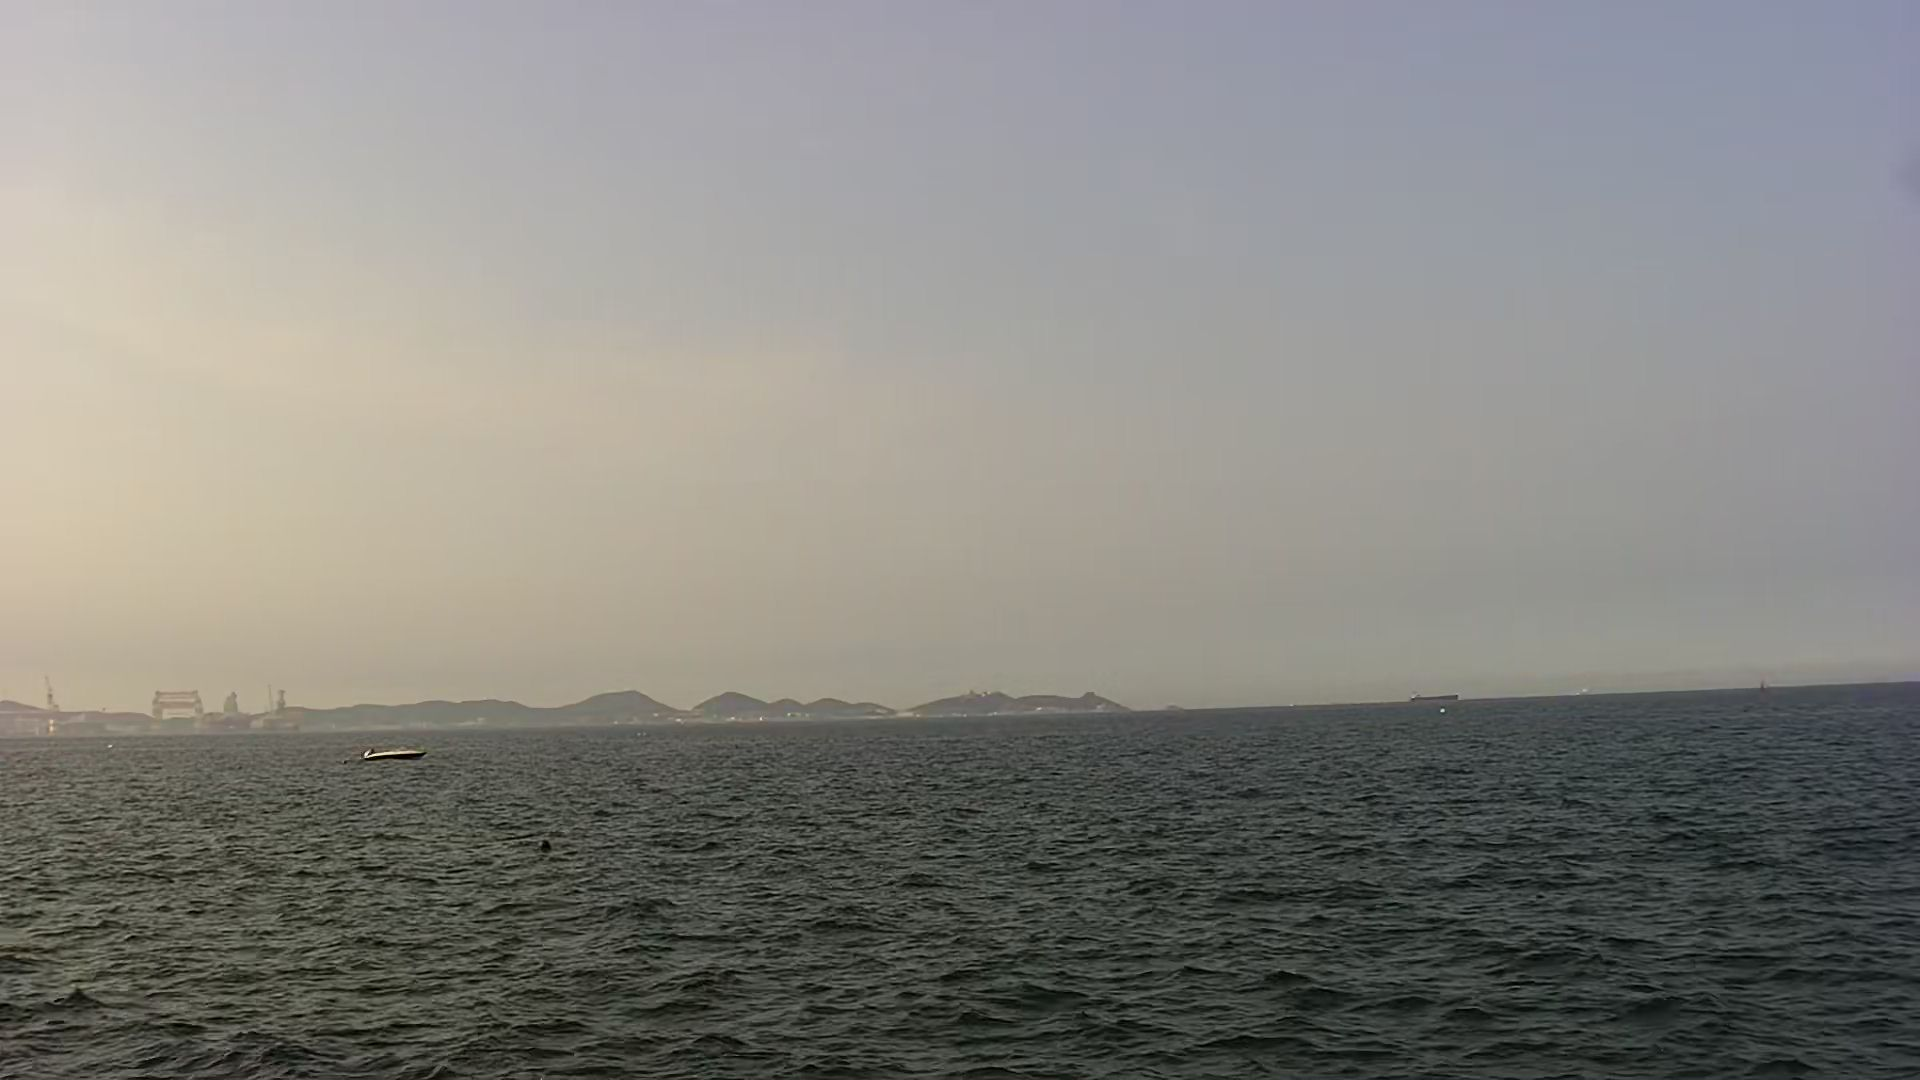boat: (351, 740, 433, 767)
